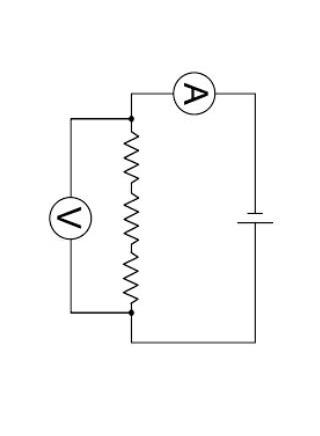resistor: (114, 123, 141, 191)
